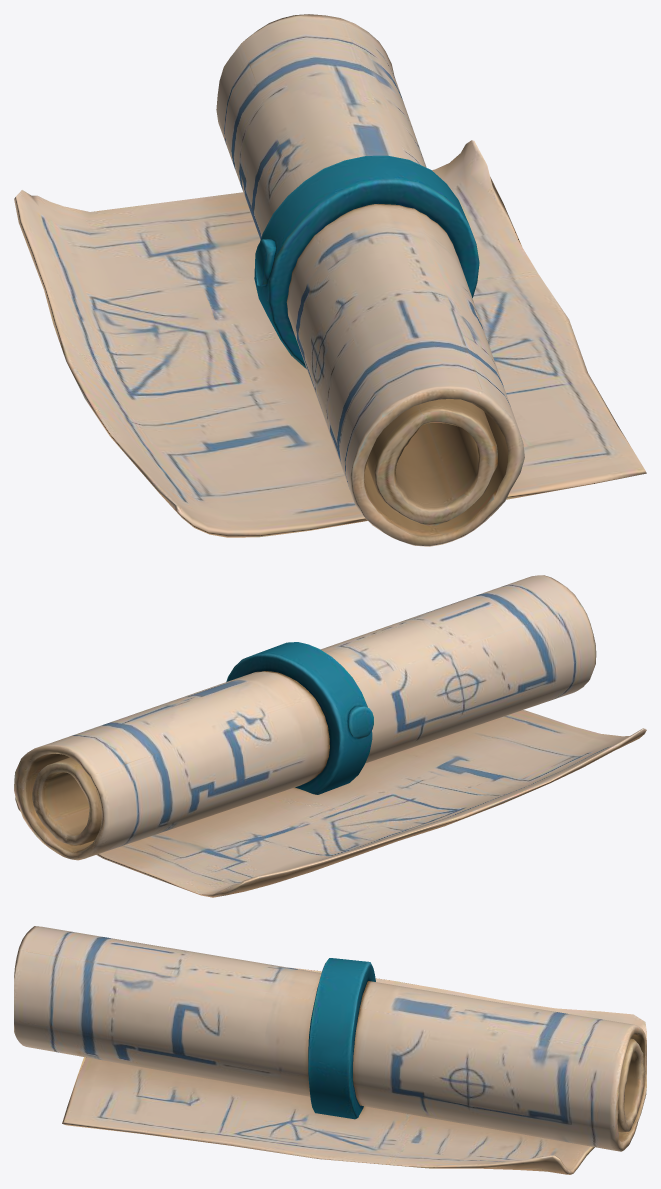
The model's file is building-plan.glb.
3 views of the same model, one above another, from view 1: azimuth 30°, elevation 25°; view 2: azimuth 150°, elevation 25°; view 3: azimuth 270°, elevation 25° (orthographic). The views are drawn at different scales.
Parts seen in each view (by area): view 1: building-plan; view 2: building-plan; view 3: building-plan.
Boxes of the visible parts, x1,y1,x2,y2 form: building-plan: (14, 14, 646, 546); building-plan: (14, 575, 646, 897); building-plan: (14, 926, 646, 1174).
Size of the model in its own units: 0.2737 by 0.0903 by 0.35.
Materials: 1 (1 with a texture image).
